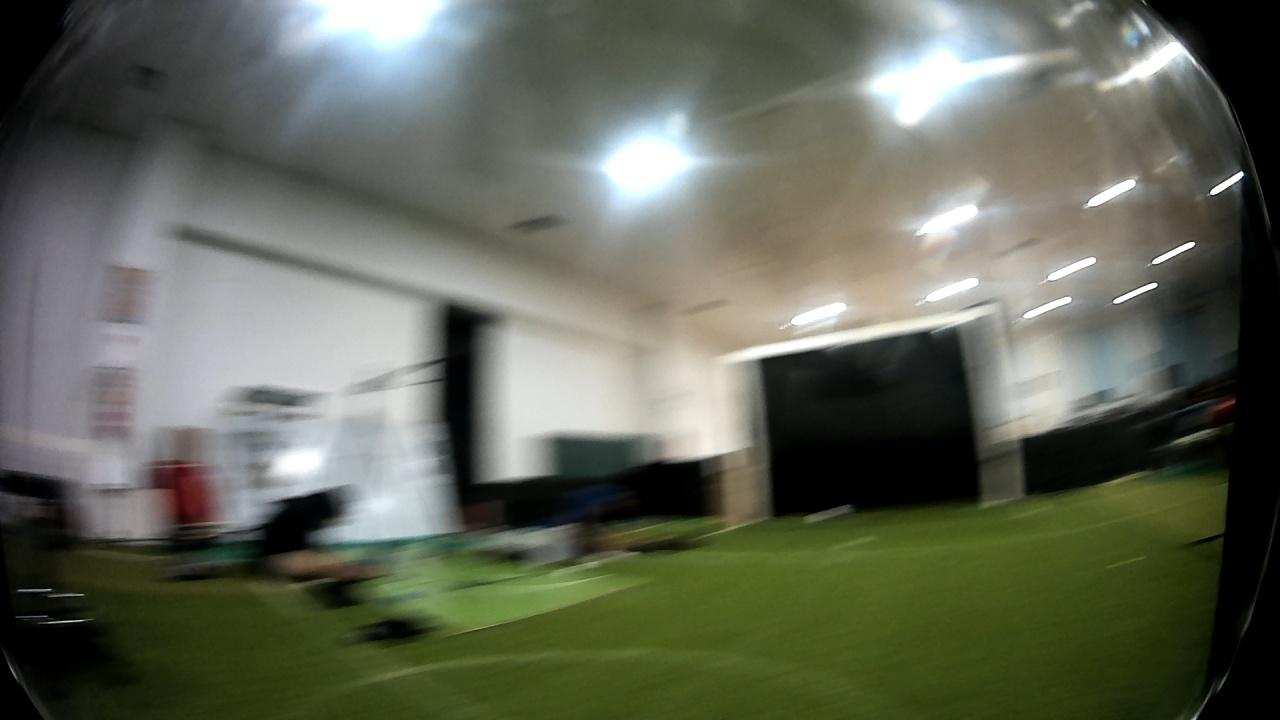ball: (799, 497, 855, 533)
